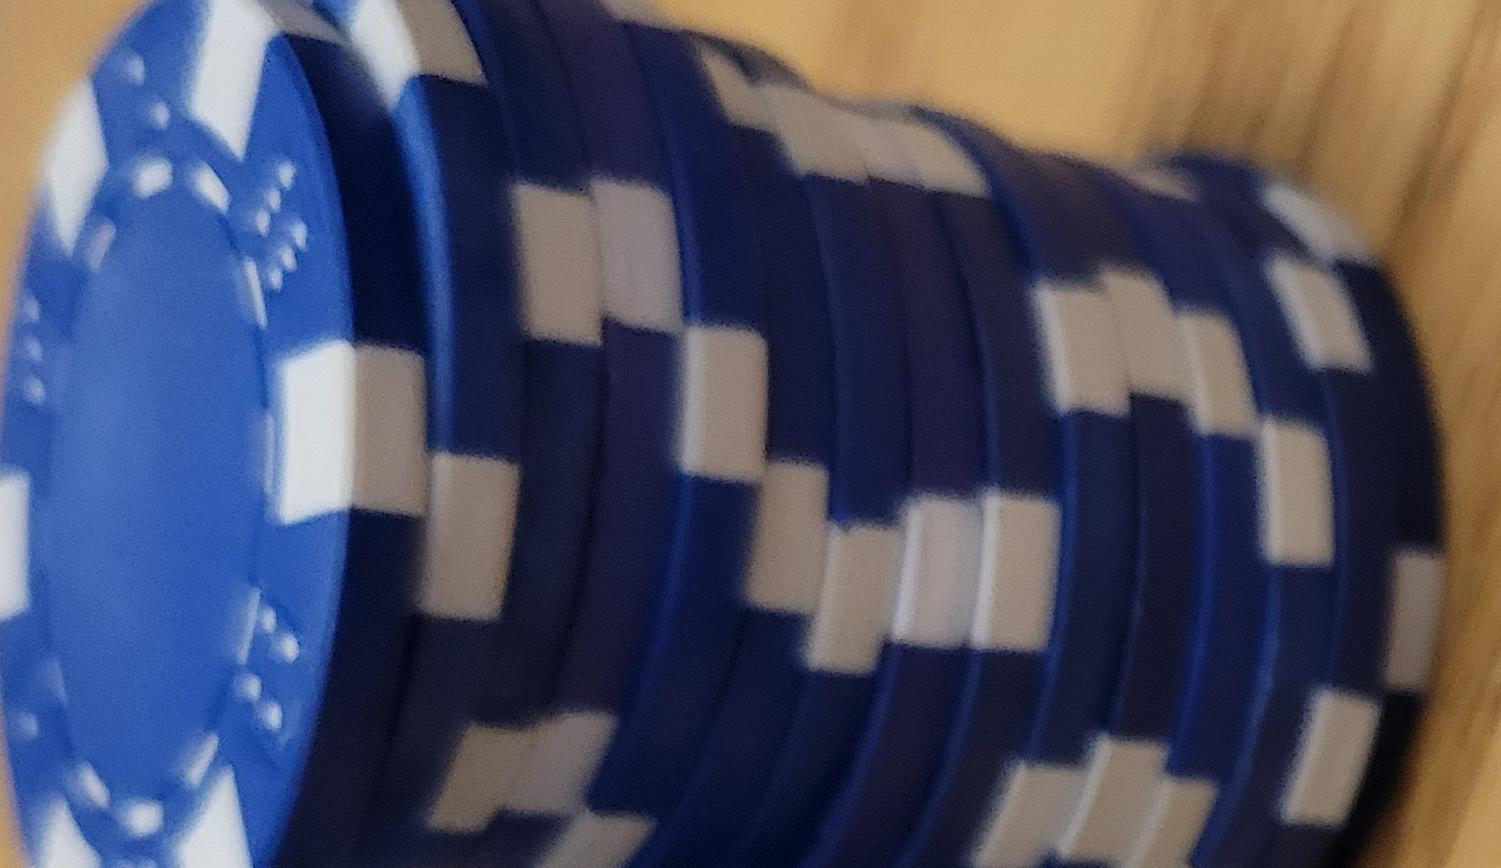Chip: (1, 169, 1029, 868)
